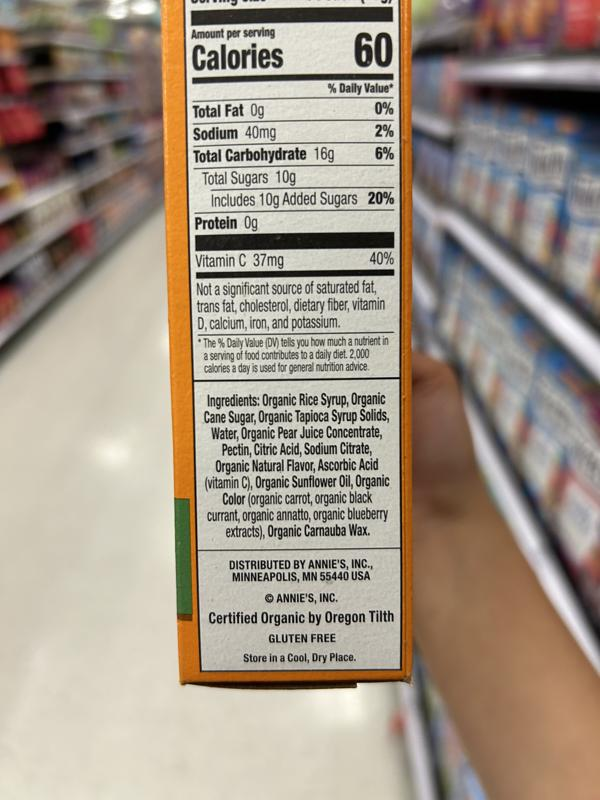ingredients: (201, 390, 395, 540)
